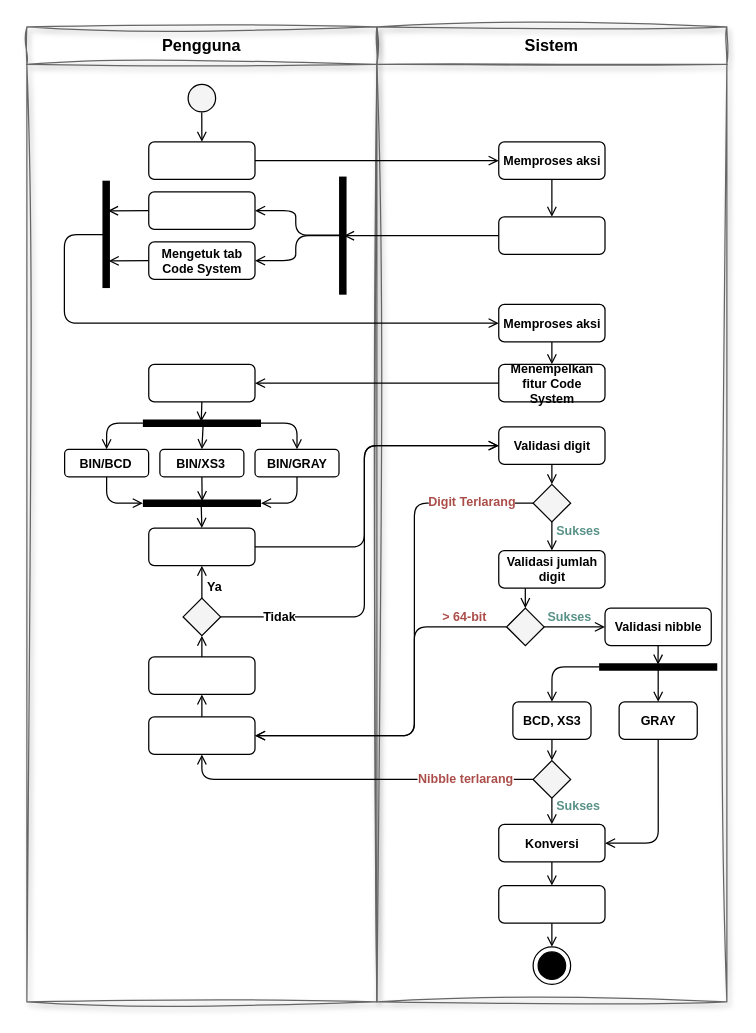
Image size: 756x1033. Some labels were removed from this diagram. Each missing label, with the centre of its shape:
"Masukan digit" goes at [201,546].
"Menampilkan fitur ke layar" goes at [551,235].
"Menggeser layar ke kiri" goes at [201,210].
"Perbaiki digit" goes at [201,735].
"Pilih mesin encoder/decoder" goes at [201,382].
"Tambahkan digit" goes at [201,675].
"Tampilkan hasil" goes at [551,903].
"Tekan fitur Number System" goes at [201,160].
